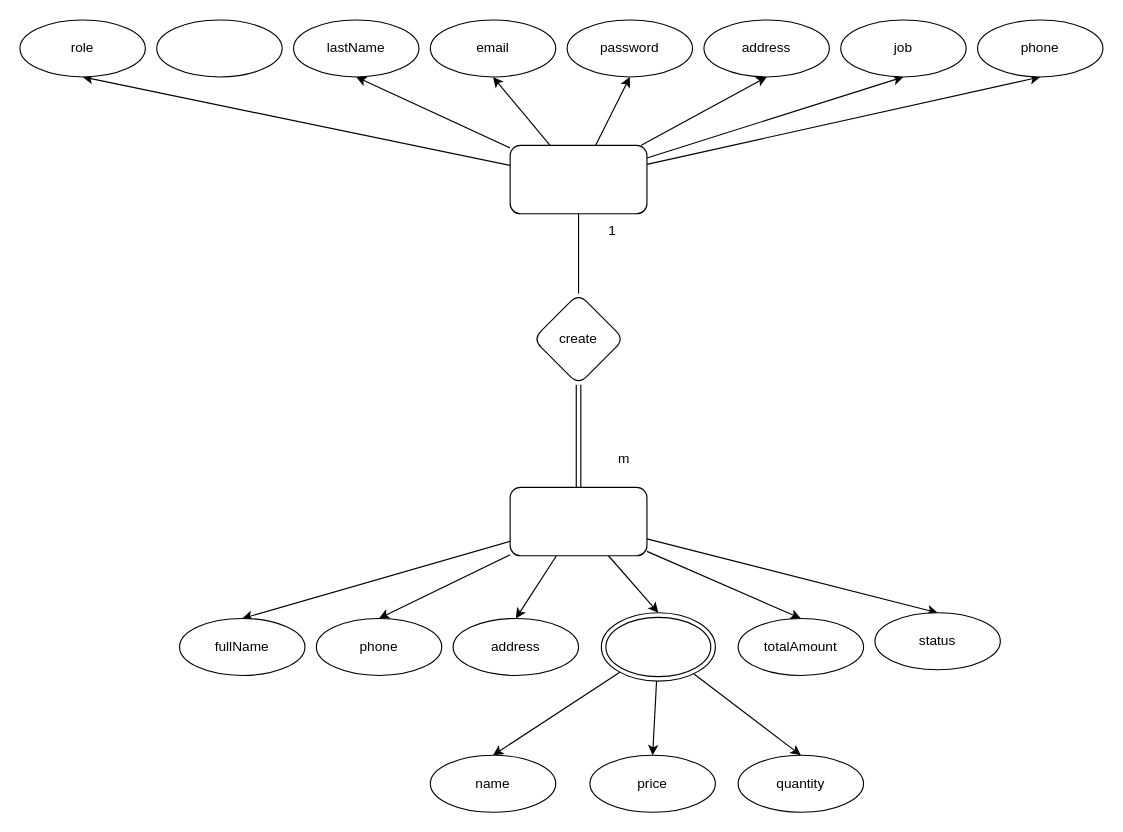
The diagram is 1123 pixels wide and 832 high, and some of its shapes have lost their labels. The centre of each missing label's shape, as x and y in pixels:
firstName: point 219,48
order: point 578,521
product: point 657,646
User: point 578,179
